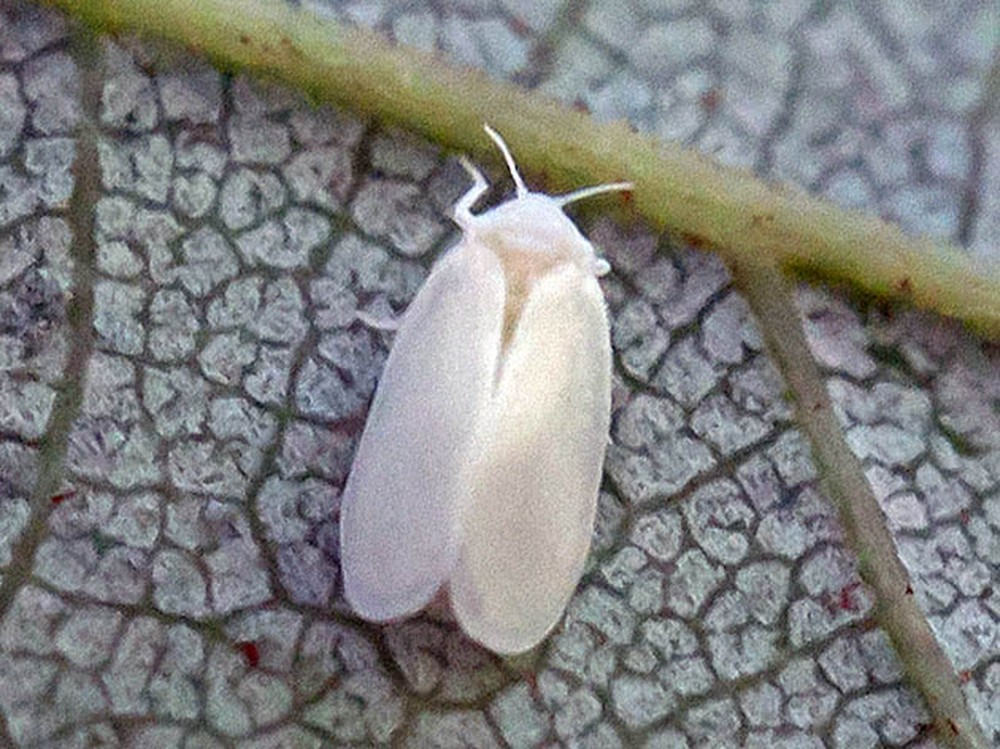Mosca Blanca: (325, 116, 665, 681)
